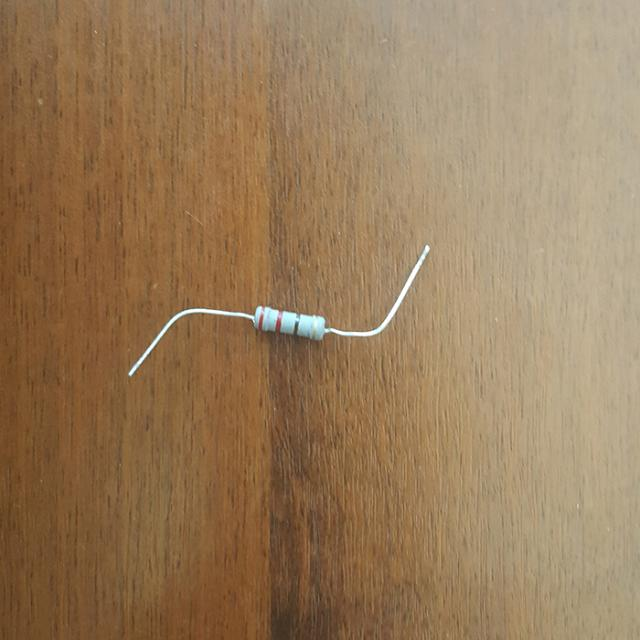brown: (294, 315, 300, 335)
gold: (312, 316, 317, 337)
red: (276, 310, 283, 329), (259, 306, 265, 328)
resistor: (245, 294, 336, 351)
